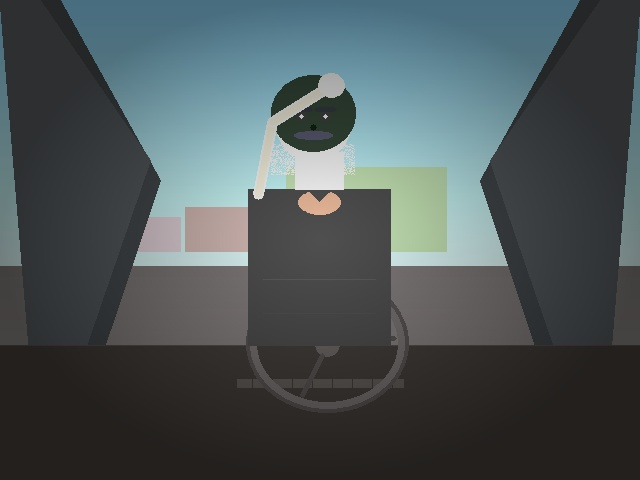hands_off_wheel: (310, 67, 352, 102)
